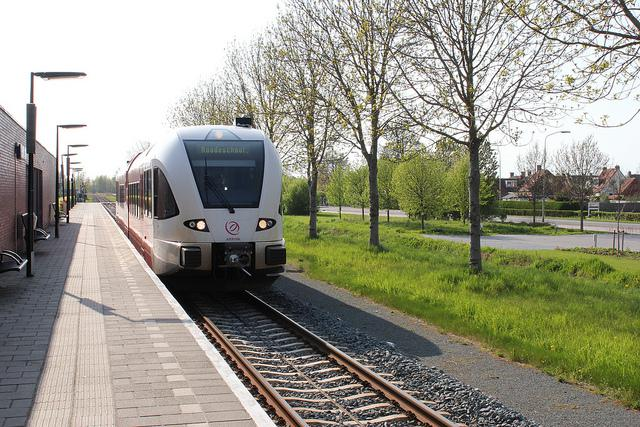Train: (117, 124, 292, 275)
